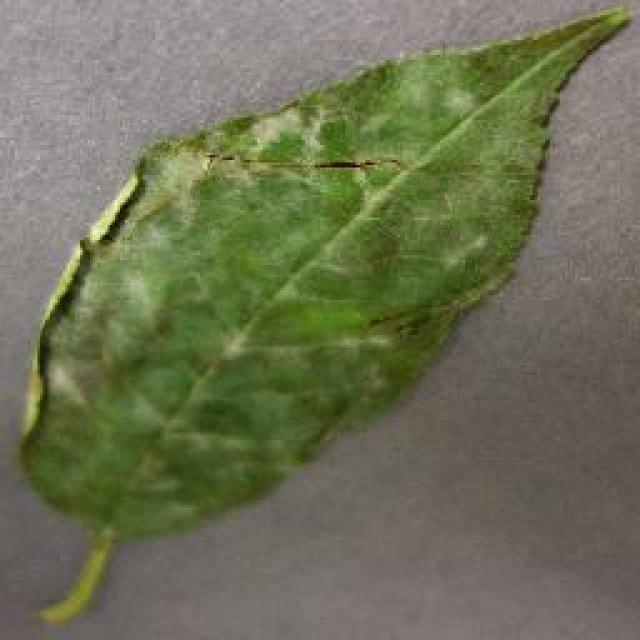Cher_including_sour_Pow_mildew: (75, 142, 429, 372)
